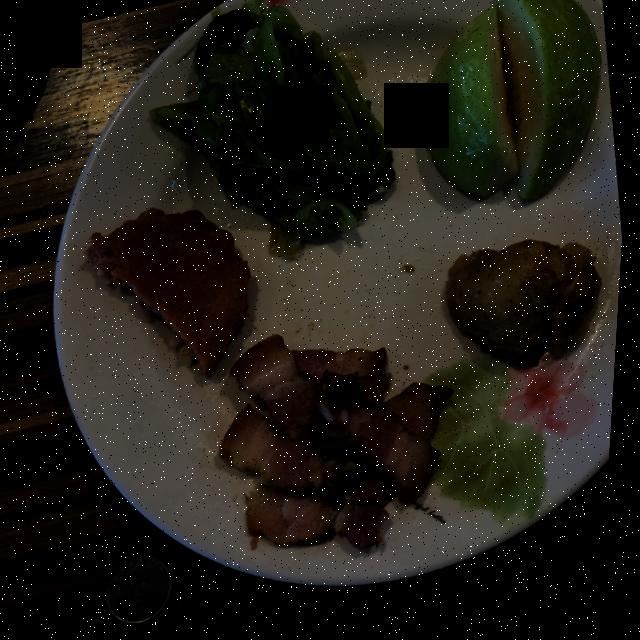Spam: (90, 211, 254, 377)
coin: (113, 557, 180, 626)
fried potato: (450, 250, 605, 369)
grilled pork: (225, 340, 458, 556)
guava -sliced-: (427, 0, 603, 210)
mustard greens: (151, 9, 398, 261)
